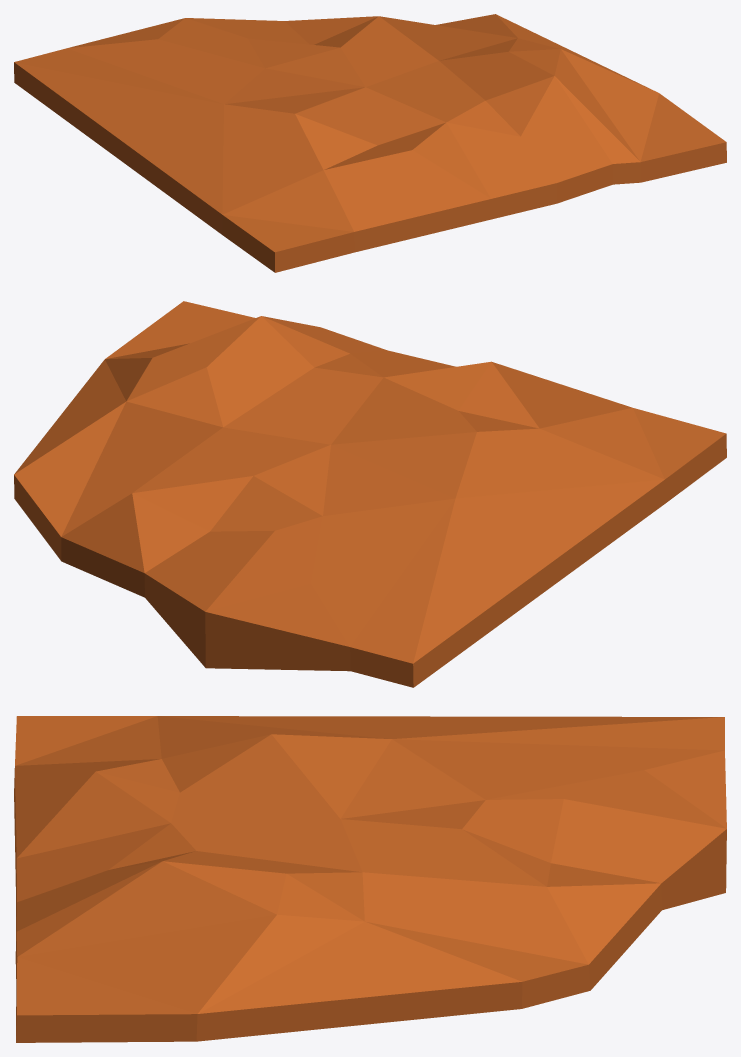
File: Path Curve 1.fbx
3 views of the same model, one above another, from view 1: azimuth 30°, elevation 25°; view 2: azimuth 150°, elevation 25°; view 3: azimuth 270°, elevation 25° (orthographic). The views are drawn at different scales.
Parts seen in each view (by area): view 1: Path Curve 1; view 2: Path Curve 1; view 3: Path Curve 1.
Part boxes in pixels (x1,y1,x2,y2): Path Curve 1: (14, 14, 726, 272); Path Curve 1: (14, 301, 726, 687); Path Curve 1: (14, 716, 726, 1042).
Bounding box in the file's own units: 5.56 × 1.2 × 5.59.
